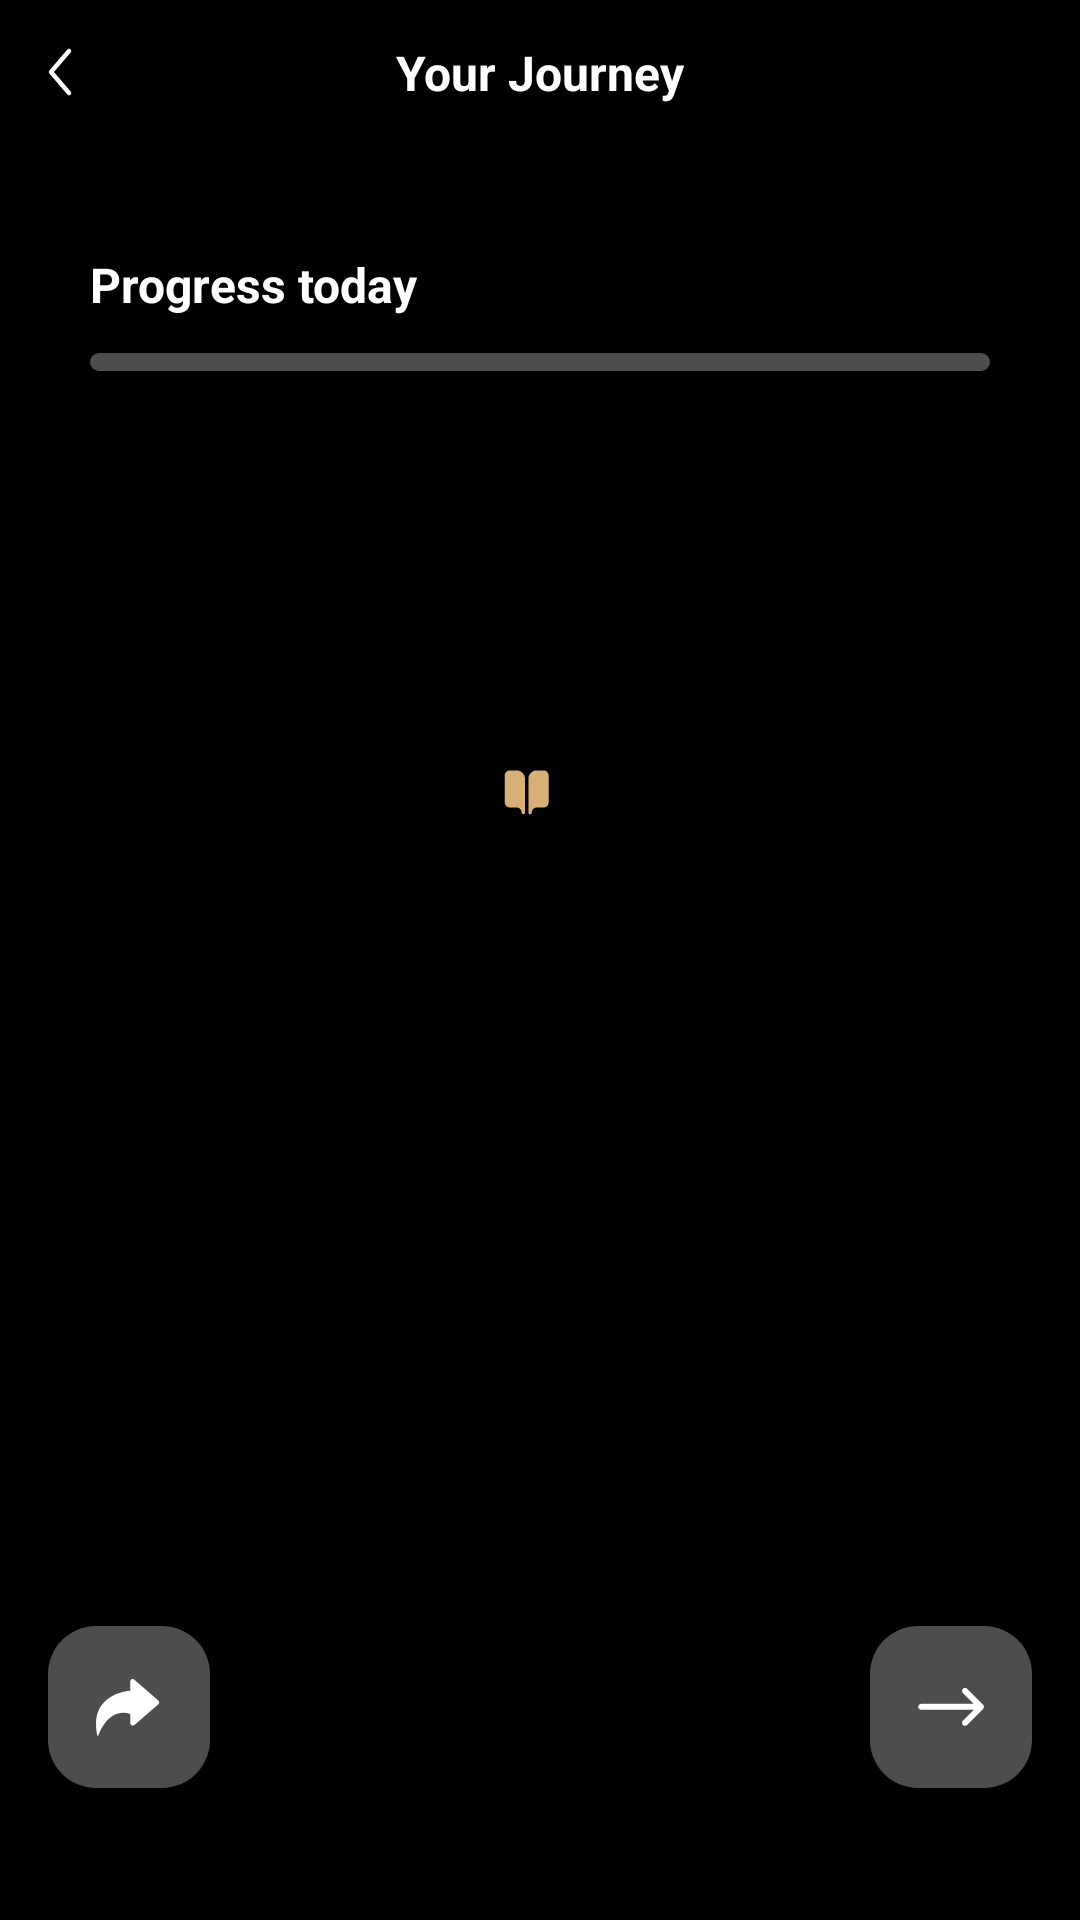

Named icons in this screenshot (1080x1920) and their bounding boxes, bbox=(x1, y1, x2, y2):
back: bbox=(48, 48, 72, 96)
book: bbox=(504, 770, 549, 815)
verse read next: bbox=(870, 1626, 1032, 1788)
verse read share: bbox=(48, 1626, 210, 1788)
